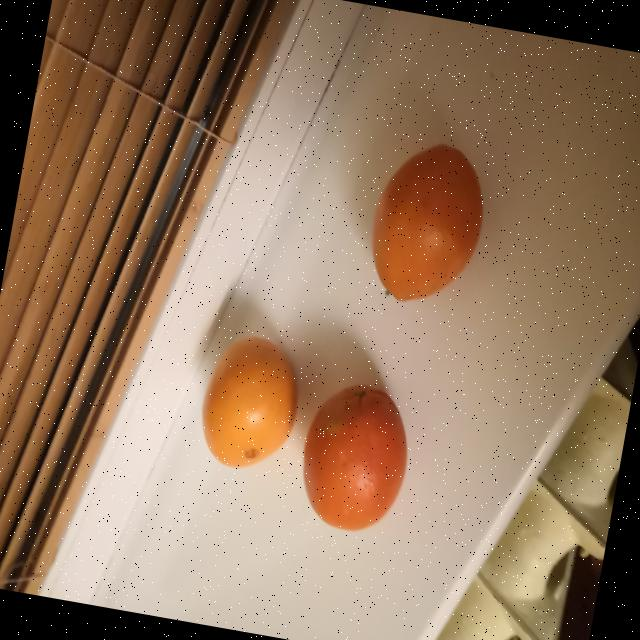orange: (372, 143, 482, 300), (303, 383, 407, 529), (202, 335, 297, 466)
